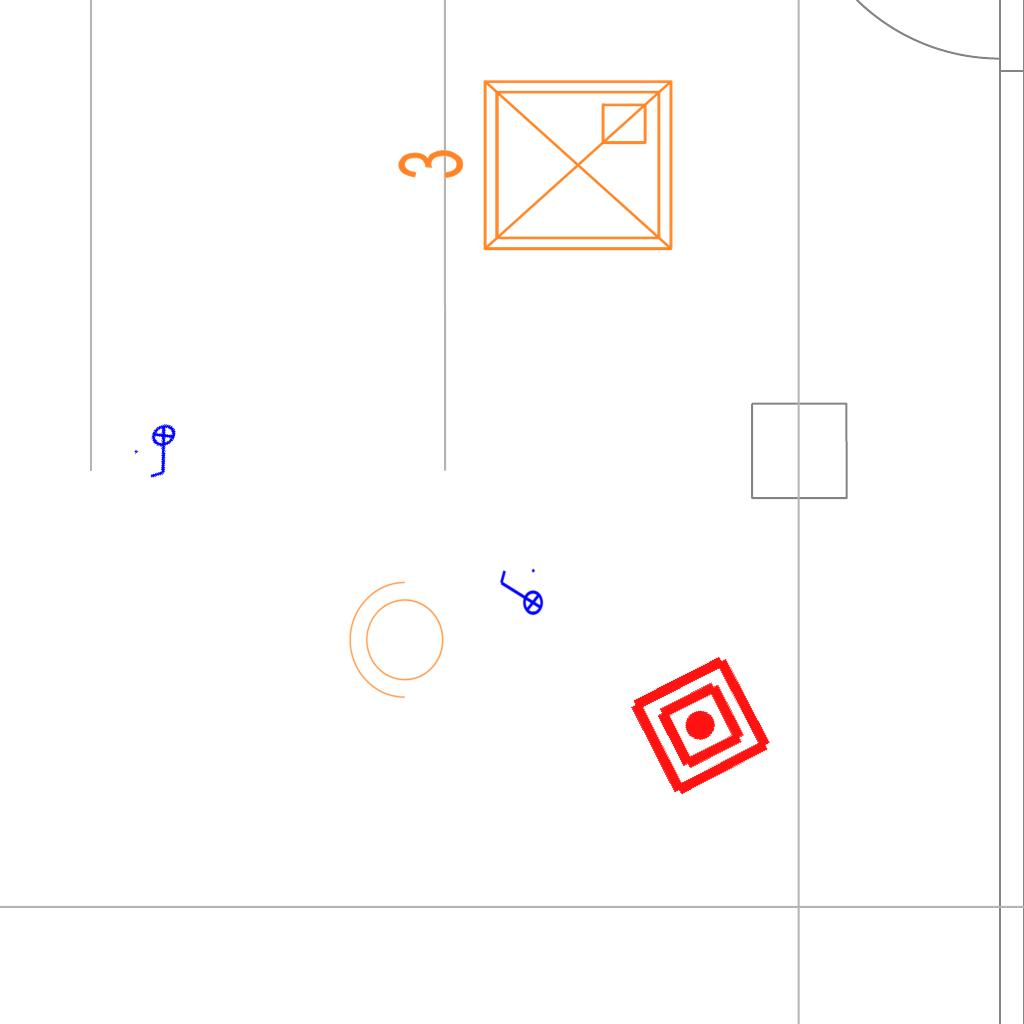Ausschalter_beleuchtet: (126, 416, 200, 486), (496, 566, 544, 622)
Einbaudownlights_LED_Konferenzraeume: (387, 65, 687, 273)
NAM-Nichtautomatischer_Melder: (624, 649, 777, 802)
Scheinwerfer_fuer_Alarmbeleuchtung: (344, 577, 456, 709)
